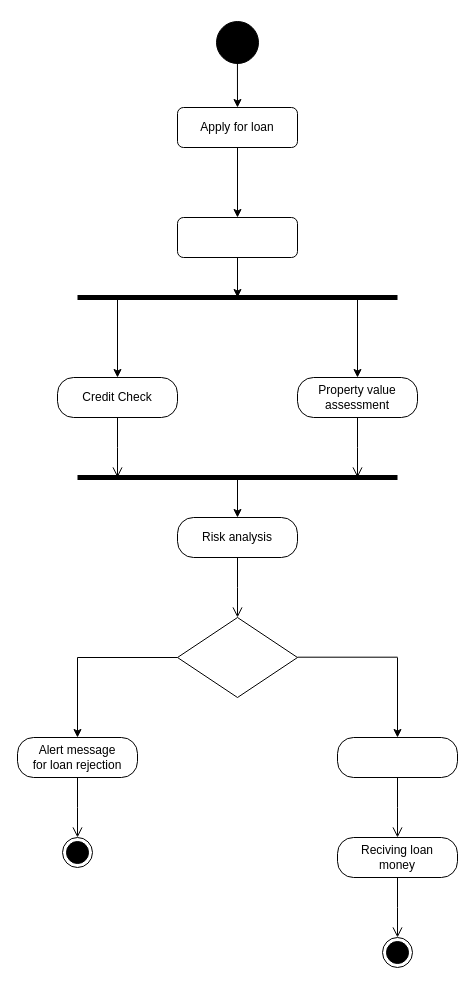
This 475x985 diagram has some shape labels left out. The shapes that lost their labels are listed below. From the top down, each one's centre as x and y in pixels, then its label:
point 237,237: Application confirmed
point 397,757: Confirmation message for loan approval
